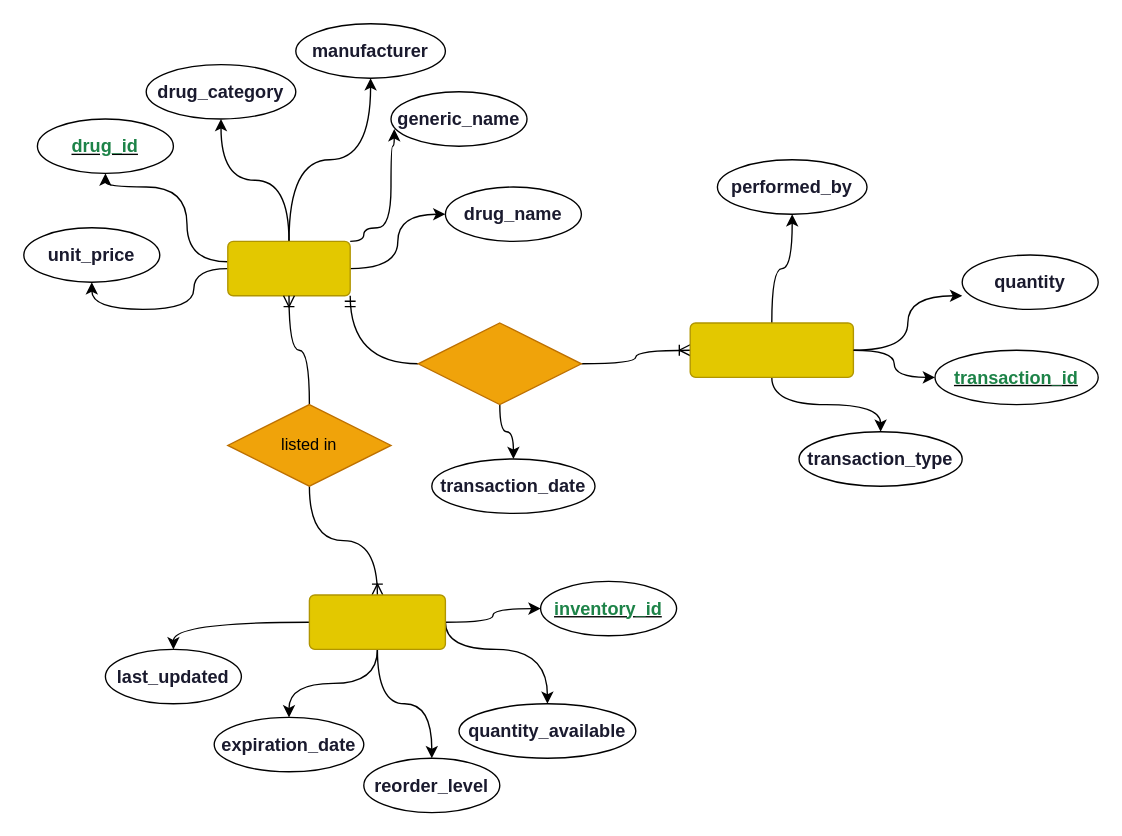
Image size: 1122x836. Some labels were removed from this diagram. Each missing label, with the centre of its shape:
"Drug Inventory" belongs at point 376,621.
"Drug Transactions" belongs at point 771,349.
"Drugs" belongs at point 288,268.
"Transacted" belongs at point 499,363.
